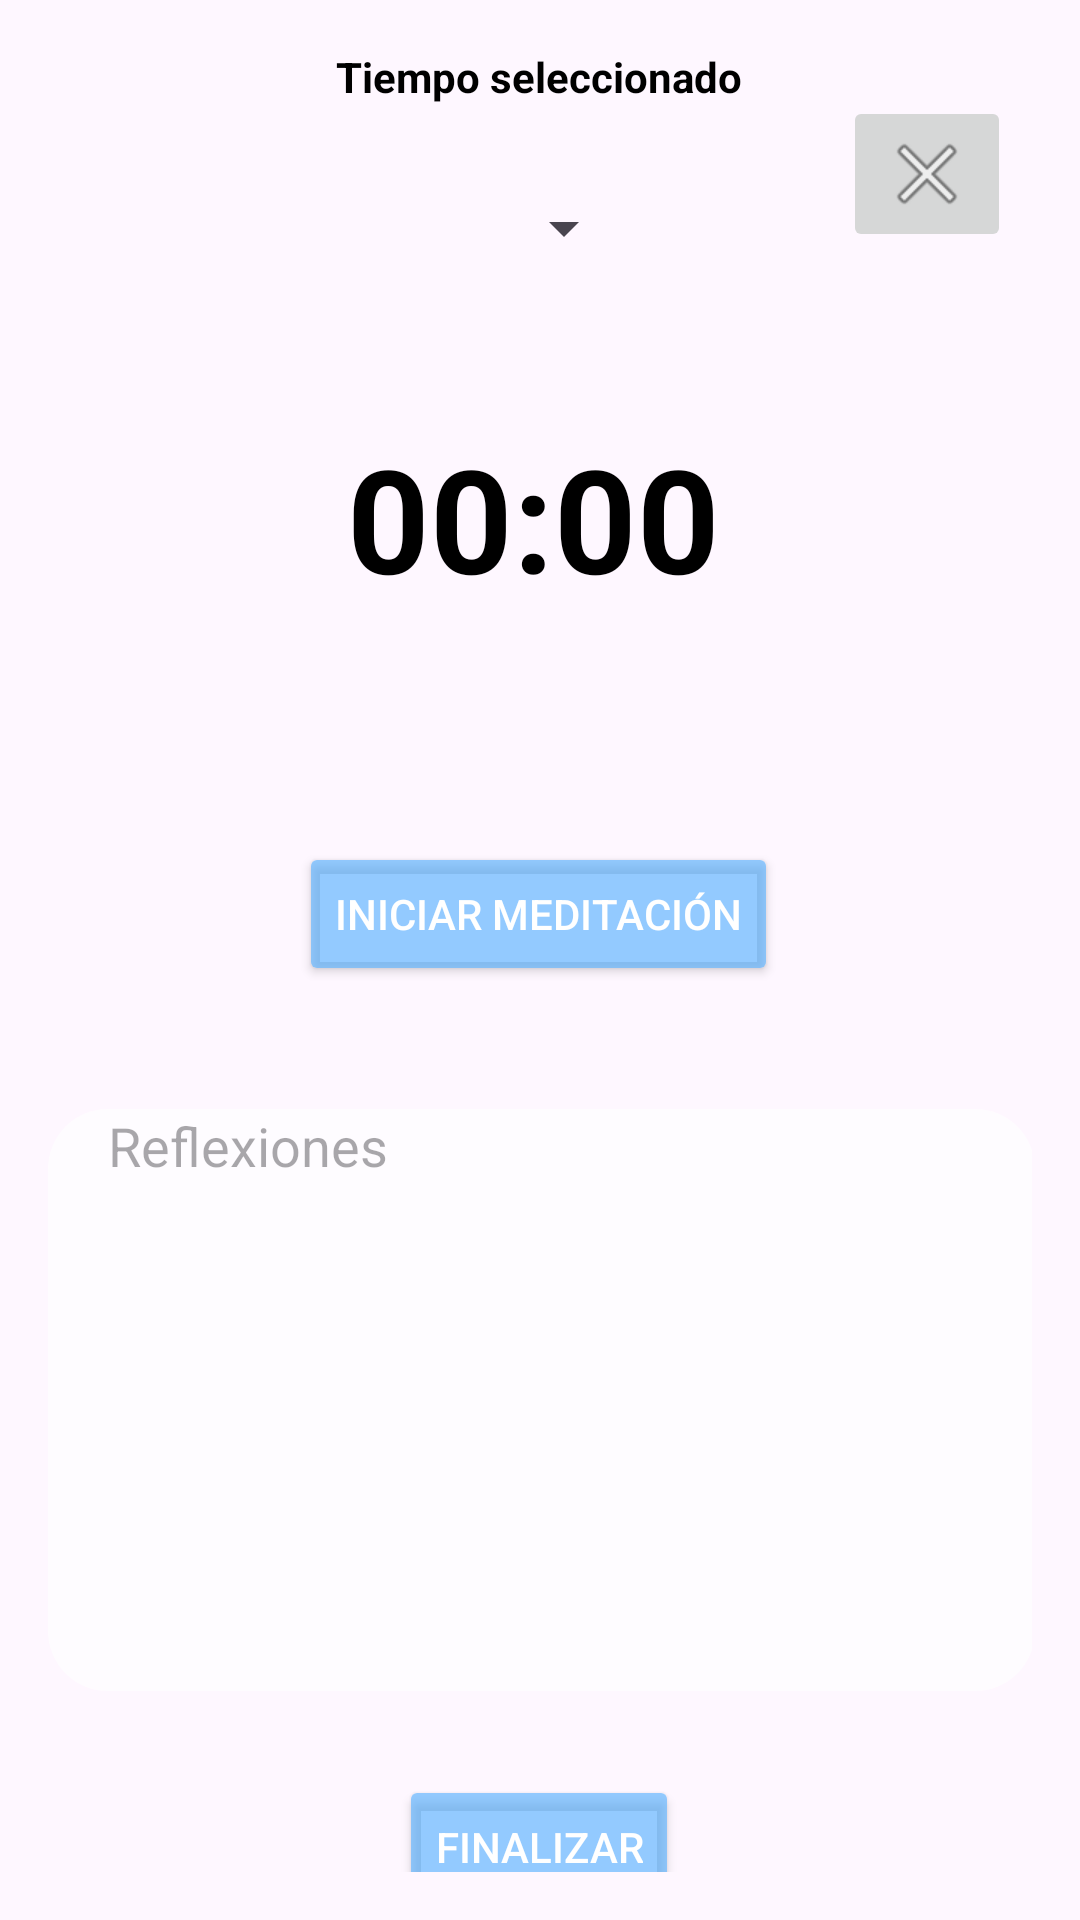

Icons on this 1080px×1920px Android screen, each with the point to tap as [x,y]:
close clear cancel: [927,174]
